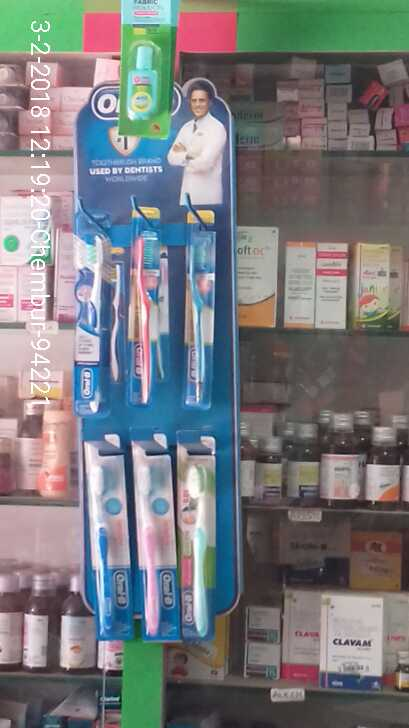oralb: (136, 457, 185, 644), (70, 233, 116, 425), (177, 224, 221, 404), (183, 468, 220, 651), (90, 457, 126, 636), (130, 229, 163, 408)
